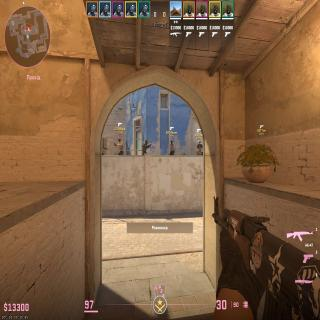CT-Body: (142, 140, 148, 154), (198, 142, 202, 149)
CT-Head: (144, 140, 148, 144), (199, 142, 201, 144)
T-Body: (118, 138, 123, 156), (196, 144, 202, 155), (170, 141, 174, 155)
T-Head: (118, 138, 121, 142), (171, 140, 173, 144), (198, 144, 200, 148)
